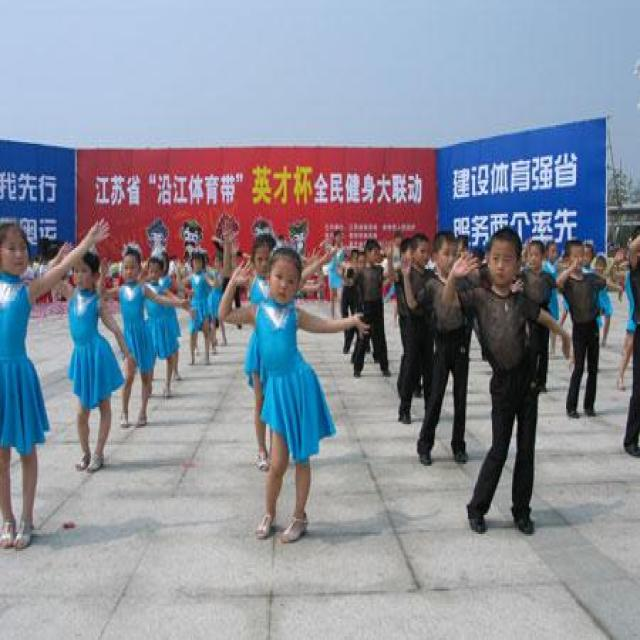non-fight: (462, 223, 569, 534), (234, 235, 336, 545), (0, 223, 50, 551), (108, 242, 159, 428), (617, 229, 639, 456)
